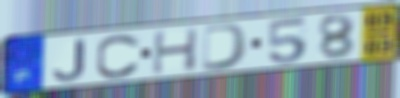5: (265, 15, 309, 66)
8: (316, 13, 358, 60)
C: (93, 33, 143, 80)
D: (199, 21, 252, 72)
H: (150, 26, 201, 76)
J: (51, 37, 87, 83)
